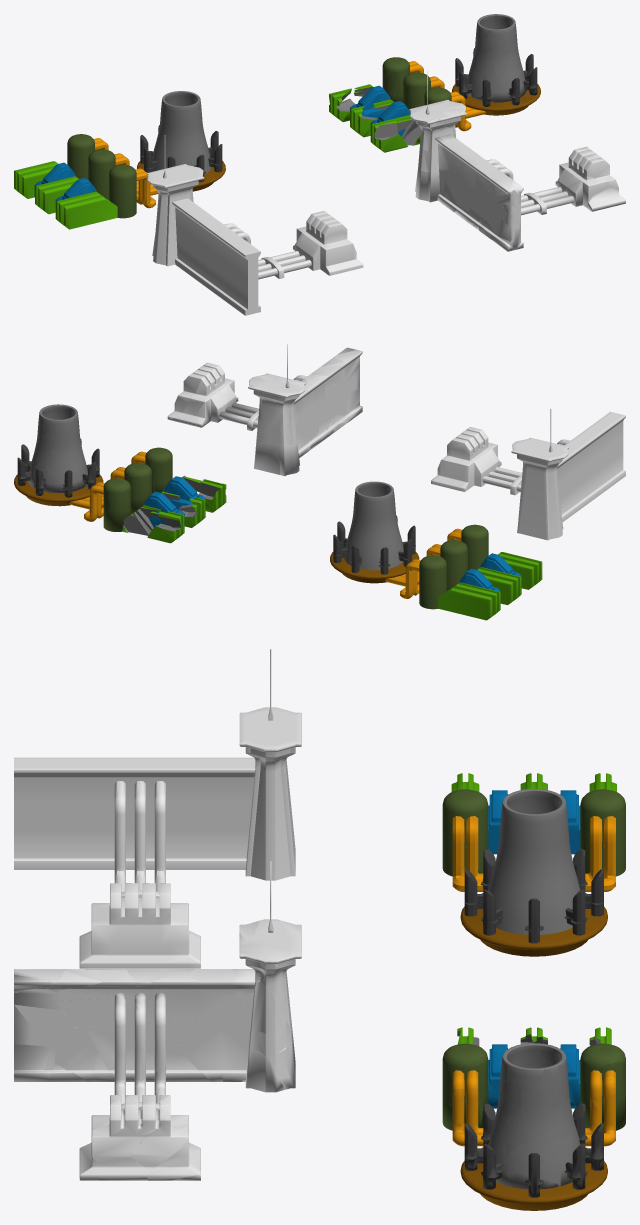
File: Wall and Nuclear Reactor (Set 2) + Fractures.fbx
The picture shows the model from 3 angles, top to bottom: view 1: azimuth 30°, elevation 25°; view 2: azimuth 150°, elevation 25°; view 3: azimuth 270°, elevation 25°; orthographic projection. The views are drawn at different scales.
Visible parts, largest first — view 1: Nuclear Barrel Ground.002, Wall.003, Wall Tower.001, Wall Sewer cleaning machine.001, Wall Tower.001_cell.016_cell.003, Wall Sewer cleaning machine.002_cell.011, Wall Sewer Pipes.007, Wall.003_cell.023, Nuclear Barrel Ground.007_cell.007, Wall Sewer cleaning machine.002_cell.017; view 2: Nuclear Barrel Ground.002, Wall.003, Wall Tower.001, Wall Sewer cleaning machine.001, Wall Tower.001_cell.016_cell, Wall Tower.001_cell.016_cell.003, Wall Sewer cleaning machine.002_cell, Wall Tower.001_cell.003, Nuclear Barrel Ground.007_cell.005, Wall Tower.001_cell.017_cell.001, Wall.003_cell.017, Nuclear Barrel Ground.005_cell.008 (+1 smaller); view 3: Nuclear Barrel Ground.002, Wall.003, Wall Sewer cleaning machine.001, Wall Tower.001, Wall Sewer cleaning machine.002_cell.005, Wall.003_cell.023, Wall.003_cell.004_cell.001, Wall.003_cell.019, Wall Sewer cleaning machine.002_cell.019, Wall.003_cell.002, Wall.003_cell.006, Wall.003_cell.012 (+16 smaller).
Part boxes in pixels (left/top/right/bottom): Nuclear Barrel Ground.002: left=14, top=91, right=225, bottom=229; Wall.003: left=172, top=198, right=260, bottom=315; Wall Tower.001: left=146, top=135, right=204, bottom=266; Wall Sewer cleaning machine.001: left=293, top=211, right=363, bottom=275; Wall Tower.001_cell.016_cell.003: left=415, top=169, right=440, bottom=202; Wall Sewer cleaning machine.002_cell.011: left=587, top=187, right=625, bottom=211; Wall Sewer Pipes.007: left=236, top=232, right=311, bottom=279; Wall.003_cell.023: left=442, top=139, right=467, bottom=172; Nuclear Barrel Ground.007_cell.007: left=405, top=84, right=428, bottom=108; Wall Sewer cleaning machine.002_cell.017: left=577, top=174, right=610, bottom=195; Nuclear Barrel Ground.002: left=330, top=481, right=542, bottom=620; Wall.003: left=557, top=411, right=625, bottom=521; Wall Tower.001: left=511, top=408, right=569, bottom=540; Wall Sewer cleaning machine.001: left=431, top=427, right=501, bottom=491; Wall Tower.001_cell.016_cell: left=254, top=442, right=280, bottom=474; Wall Tower.001_cell.016_cell.003: left=278, top=442, right=299, bottom=476; Wall Sewer cleaning machine.002_cell: left=191, top=402, right=223, bottom=427; Wall Tower.001_cell.003: left=256, top=382, right=276, bottom=432; Nuclear Barrel Ground.007_cell.005: left=131, top=470, right=150, bottom=497; Wall Tower.001_cell.017_cell.001: left=270, top=403, right=292, bottom=426; Wall.003_cell.017: left=305, top=374, right=328, bottom=404; Nuclear Barrel Ground.005_cell.008: left=44, top=455, right=68, bottom=479; Nuclear Barrel Ground.002: left=442, top=773, right=625, bottom=956; Wall.003: left=14, top=757, right=255, bottom=869; Wall Sewer cleaning machine.001: left=79, top=883, right=200, bottom=968; Wall Tower.001: left=239, top=649, right=301, bottom=880; Wall Sewer cleaning machine.002_cell.005: left=91, top=1097, right=142, bottom=1163; Wall.003_cell.023: left=186, top=969, right=237, bottom=1020; Wall.003_cell.004_cell.001: left=59, top=969, right=136, bottom=1000; Wall.003_cell.019: left=146, top=974, right=198, bottom=1019; Wall Sewer cleaning machine.002_cell.019: left=130, top=1120, right=188, bottom=1174; Wall.003_cell.002: left=61, top=998, right=134, bottom=1027; Wall.003_cell.006: left=221, top=1023, right=250, bottom=1081; Wall.003_cell.012: left=14, top=1044, right=51, bottom=1081.
Size of the model in its own units: 9482 by 2265 by 6103.
